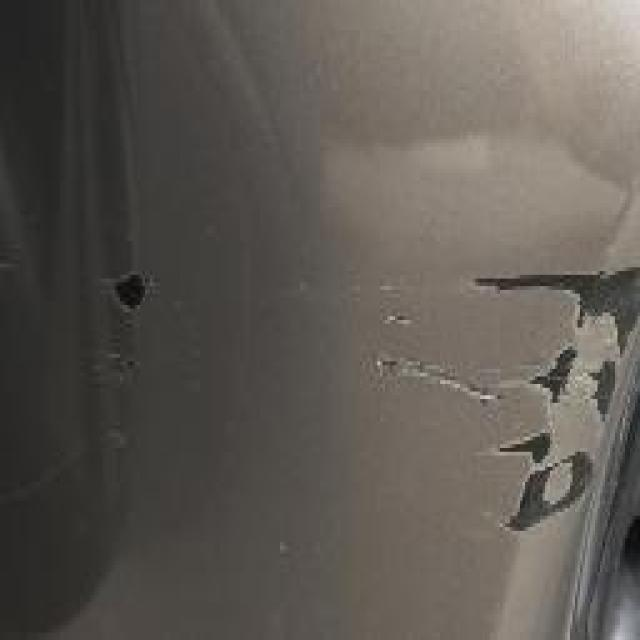Fender: (0, 34, 640, 640)
